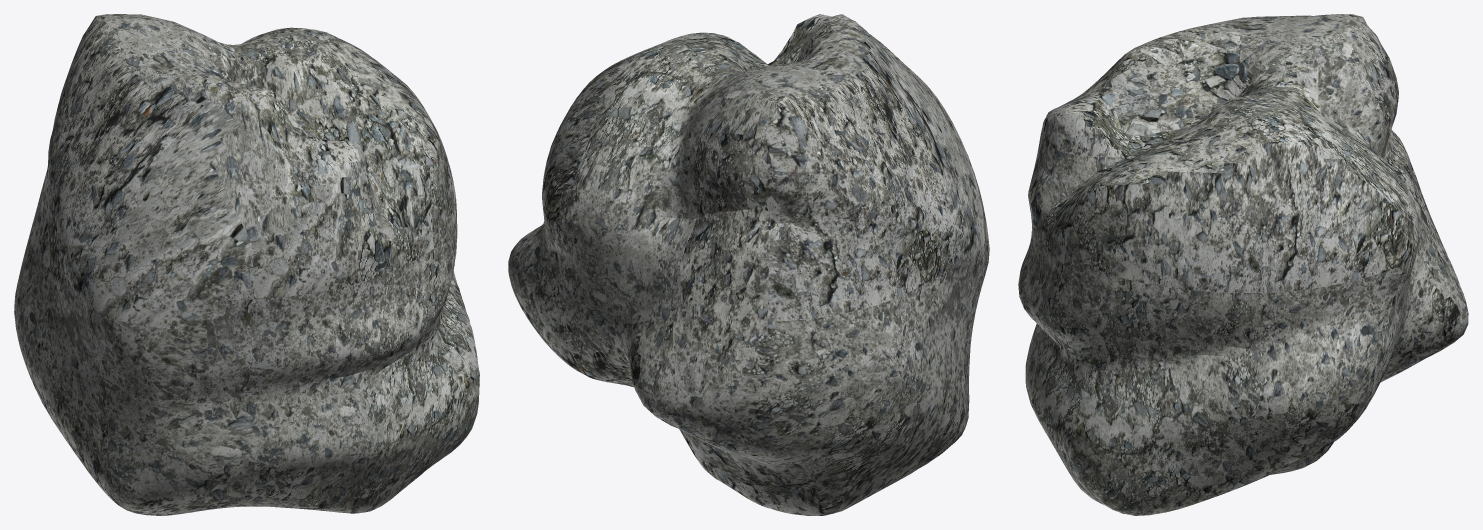
File: small asteroid.fbx
The picture shows the model from 3 angles, left to right: view 1: azimuth 30°, elevation 25°; view 2: azimuth 150°, elevation 25°; view 3: azimuth 270°, elevation 25°; orthographic projection. The views are drawn at different scales.
Parts seen in each view (by area): view 1: small_asteroid_1_Mesh; view 2: small_asteroid_1_Mesh; view 3: small_asteroid_1_Mesh.
Boxes of the visible parts, box(x1,y1,x2,y2) form: small_asteroid_1_Mesh: box(14, 14, 479, 515); small_asteroid_1_Mesh: box(508, 14, 989, 515); small_asteroid_1_Mesh: box(1018, 14, 1468, 515).
Size of the model in its own units: 0.6671 by 0.7065 by 0.6593.
Materials: 1 (1 with a texture image).
